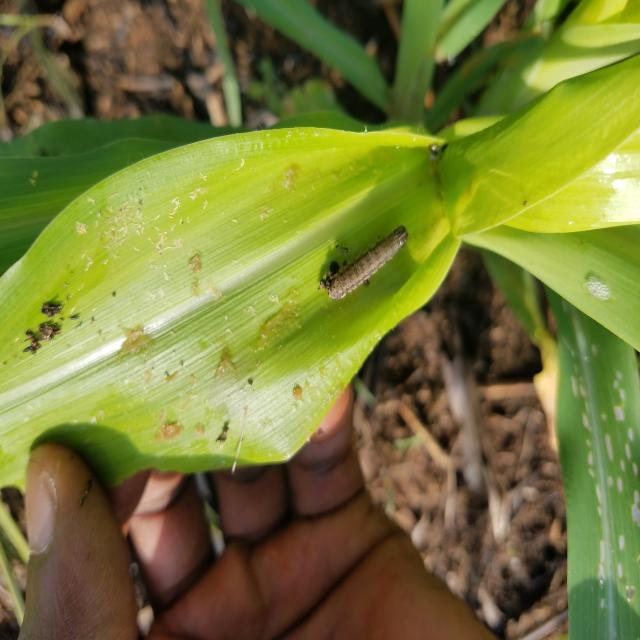yellow-stem-borer-larva: (295, 216, 435, 331)
